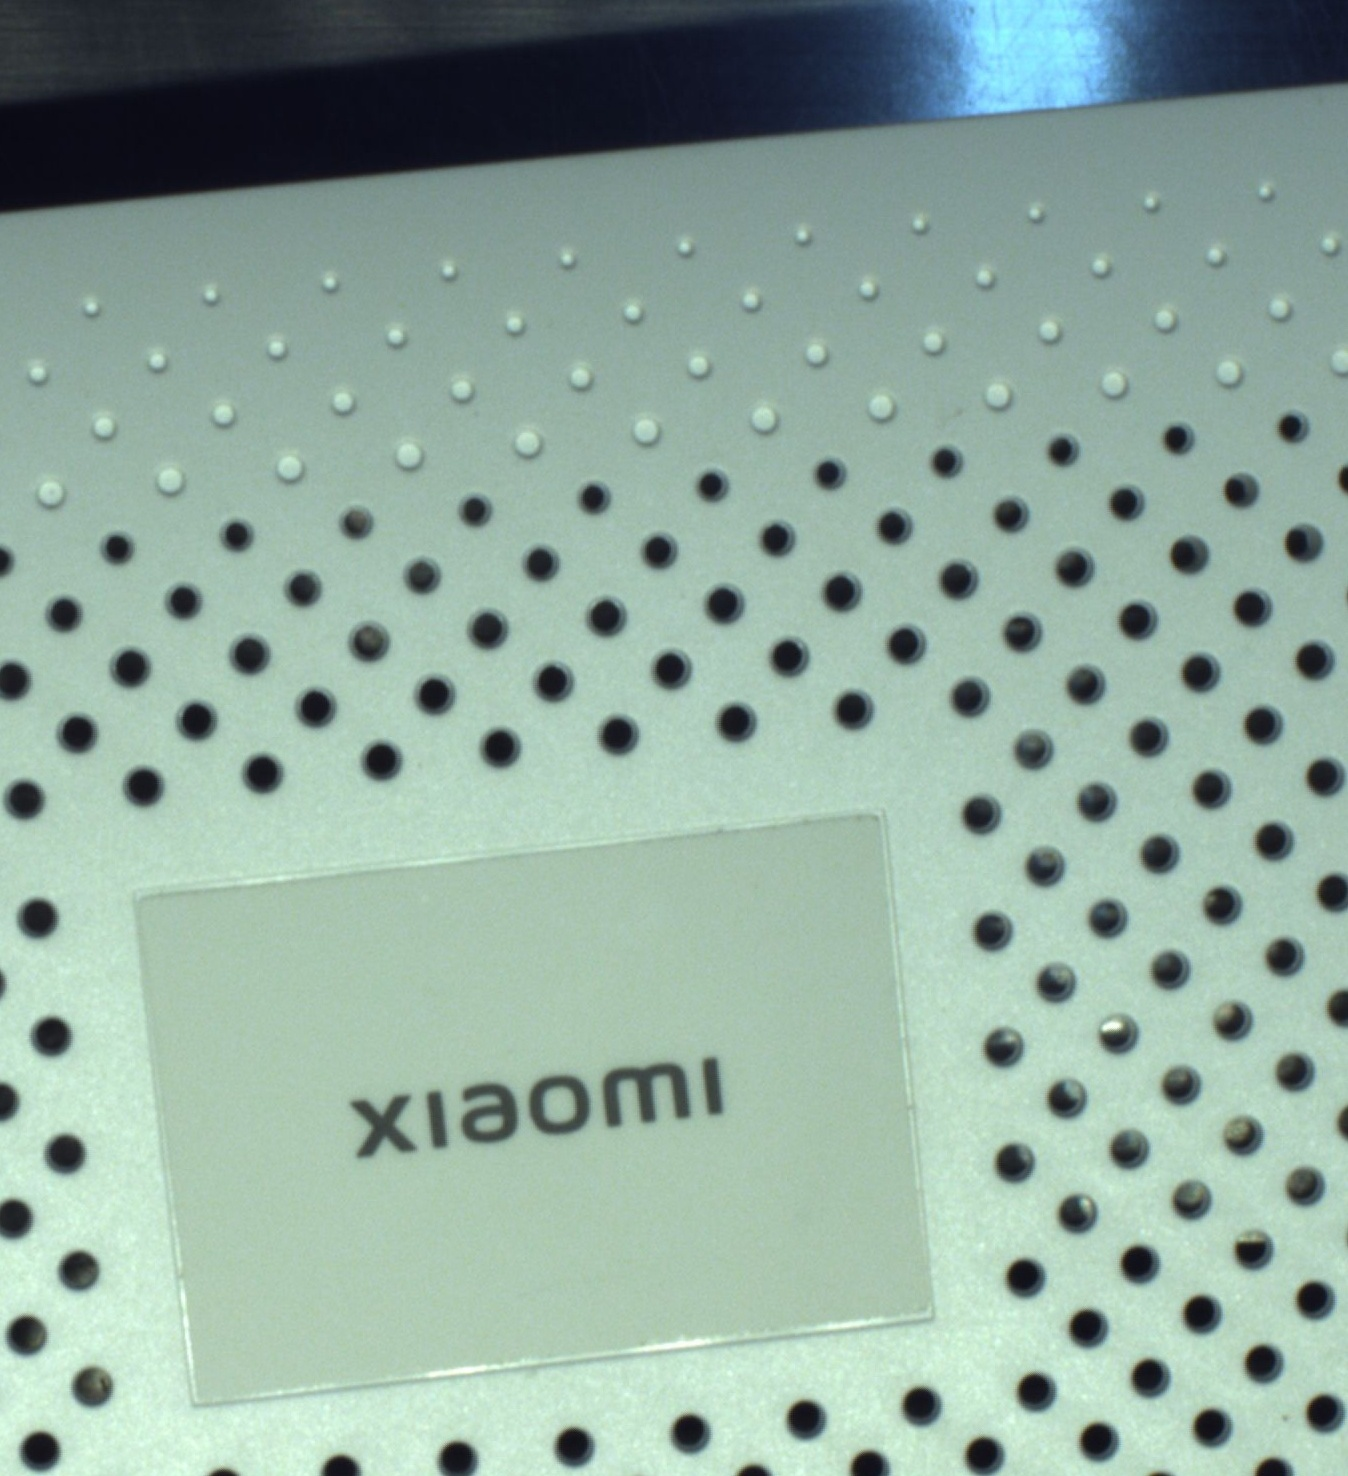MAB_OldUnicom: (334, 1056, 737, 1155)
